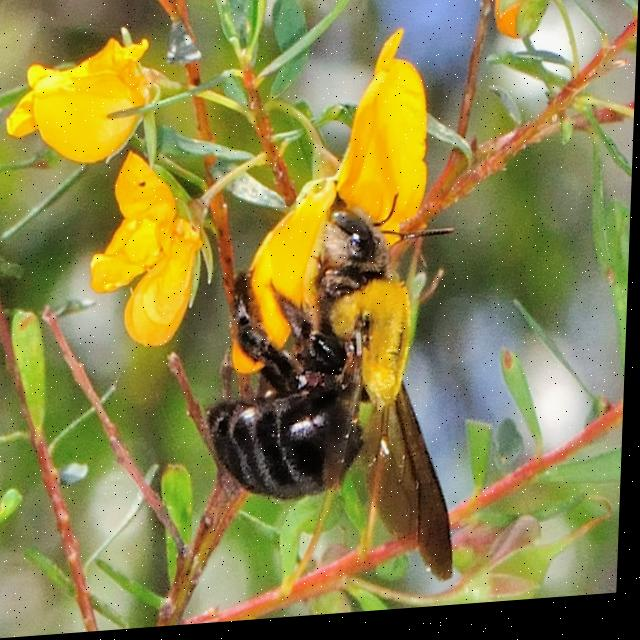Xylocopa: (164, 159, 492, 608)
